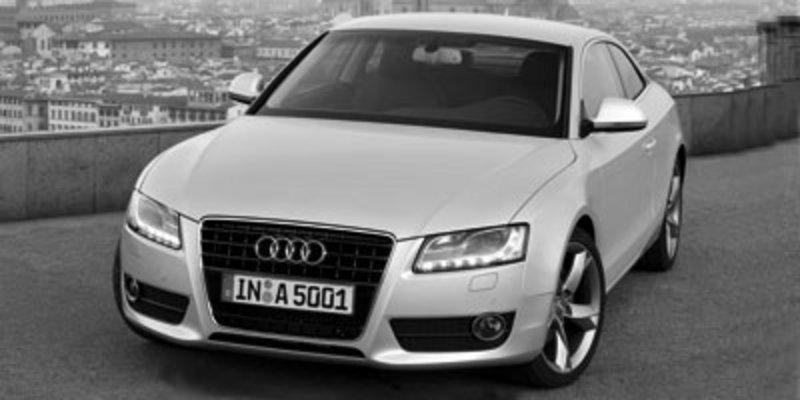car: (112, 13, 690, 391)
